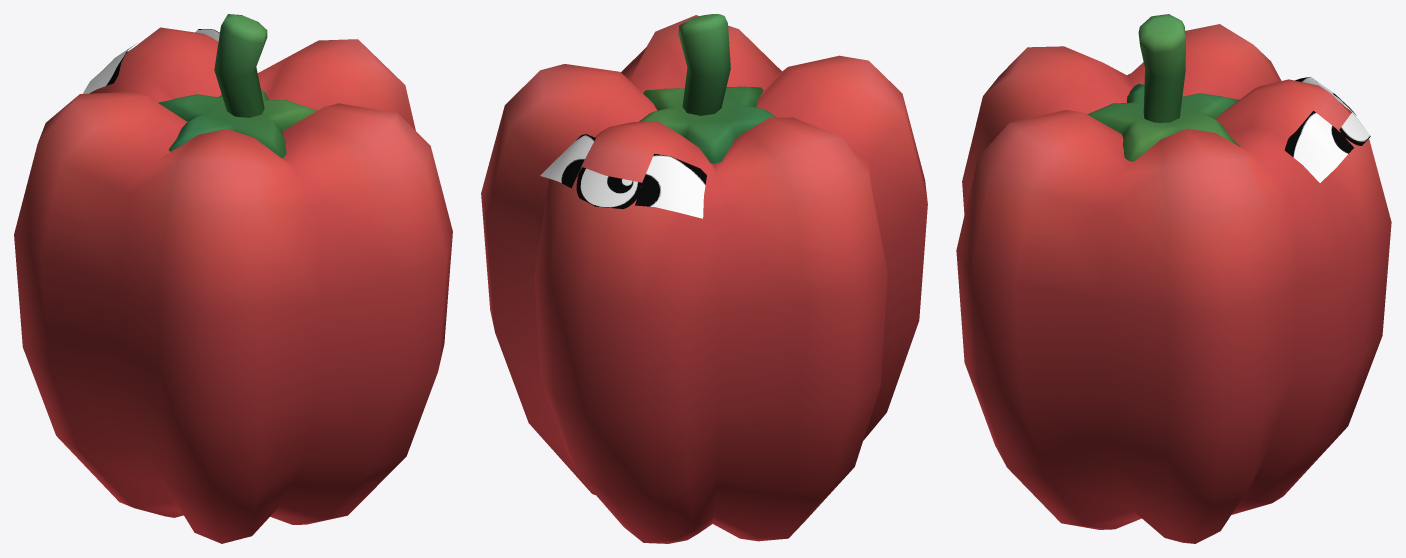
File: pepper_smile.fbx
The picture shows the model from 3 angles, left to right: view 1: azimuth 30°, elevation 25°; view 2: azimuth 150°, elevation 25°; view 3: azimuth 270°, elevation 25°; orthographic projection.
Visible parts, largest first — view 1: pepper; view 2: pepper; view 3: pepper.
Part boxes in pixels (bbox=[...]): pepper: bbox=[14, 14, 452, 543]; pepper: bbox=[481, 14, 927, 543]; pepper: bbox=[956, 14, 1391, 543].
Size of the model in its own units: 40.68 by 40.39 by 50.49.
